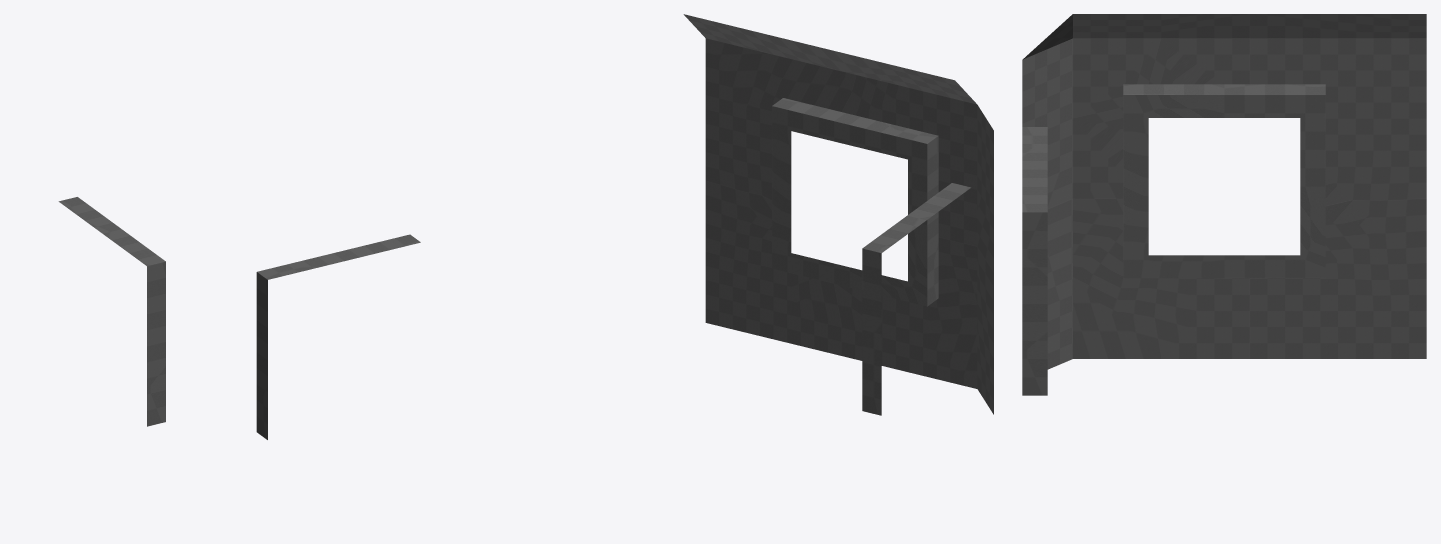
3 renders of one model, left to right at view 1: azimuth 30°, elevation 25°; view 2: azimuth 150°, elevation 25°; view 3: azimuth 270°, elevation 25°, orthographic. The views are drawn at different scales.
Visible parts, largest first — view 1: 2; view 2: 2; view 3: 2.
Part boxes in pixels (x1,y1,x2,y2): 2: (58,197,420,439); 2: (683,14,993,415); 2: (1022,14,1426,395).
Bounding box in the file's own units: 2 × 2 × 2.
Materials: 2 (2 with a texture image).
